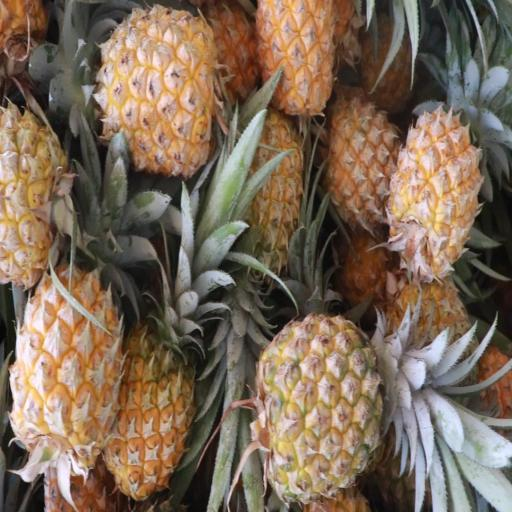------------------------------: (253, 311, 451, 501)
Pineapple - v8 v1: (12, 252, 124, 494), (104, 234, 202, 500), (74, 7, 216, 176), (210, 97, 306, 316), (380, 99, 486, 295), (324, 90, 399, 231)
